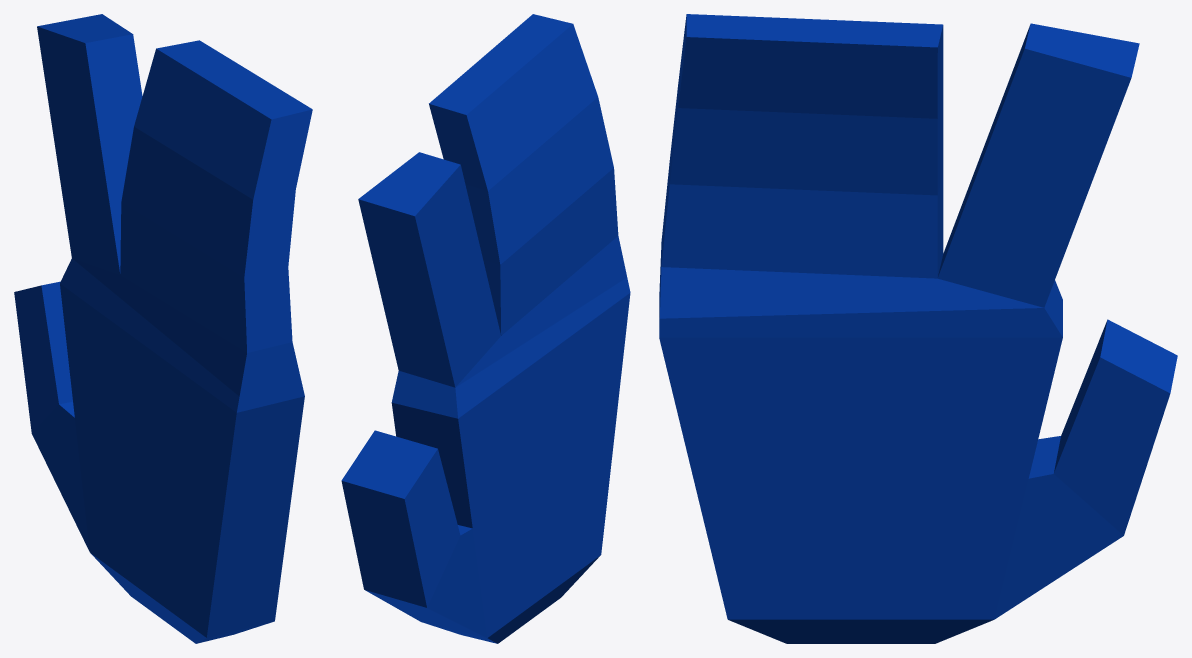
The model's file is LeftHand.fbx.
3 renders of one model, left to right at view 1: azimuth 30°, elevation 25°; view 2: azimuth 150°, elevation 25°; view 3: azimuth 270°, elevation 25°, orthographic. The views are drawn at different scales.
Visible parts, largest first — view 1: Cube.001; view 2: Cube.001; view 3: Cube.001.
Boxes of the visible parts, x1,y1,x2,y2 form: Cube.001: (14, 14, 312, 643); Cube.001: (341, 14, 630, 643); Cube.001: (659, 14, 1177, 643).
Bounding box in the file's own units: 60.73 × 355 × 266.
